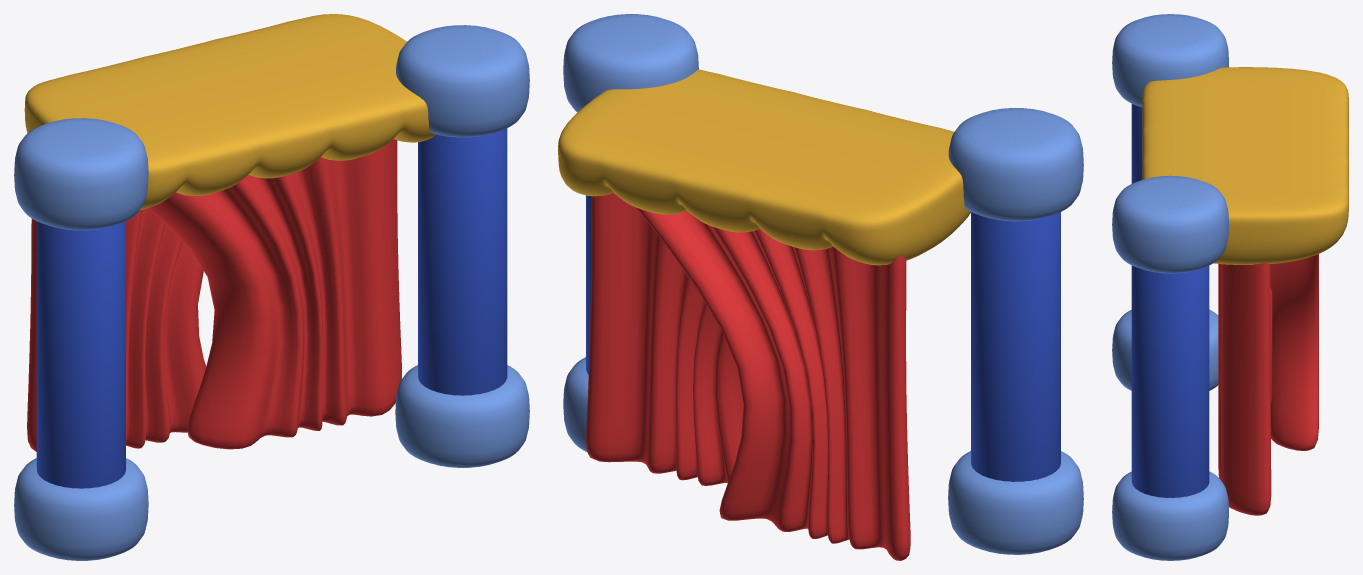
File: show-animated-3d-icon-1367337247432.glb
The picture shows the model from 3 angles, left to right: view 1: azimuth 30°, elevation 25°; view 2: azimuth 150°, elevation 25°; view 3: azimuth 270°, elevation 25°; orthographic projection. The views are drawn at different scales.
Visible parts, largest first — view 1: Curtain 2, Canopy, Part B, Part B.001, Part A, Part A.001, Curtain 1; view 2: Curtain 1, Canopy, Curtain 2, Part B, Part A, Part A.001, Part B.001; view 3: Canopy, Part B.001, Part A.001, Curtain 2, Part A, Curtain 1, Part B.
Part boxes in pixels (x1,y1,x2,y2): Curtain 2: [147, 139, 401, 449]; Canopy: [24, 14, 436, 210]; Part B: [36, 221, 125, 488]; Part B.001: [418, 128, 507, 395]; Part A: [14, 118, 148, 560]; Part A.001: [395, 25, 529, 467]; Curtain 1: [27, 208, 206, 451]; Curtain 1: [636, 207, 910, 560]; Canopy: [558, 69, 970, 265]; Curtain 2: [586, 192, 743, 485]; Part B: [971, 212, 1060, 481]; Part A: [948, 108, 1083, 554]; Part A.001: [563, 14, 698, 451]; Part B.001: [586, 195, 591, 374]; Canopy: [1142, 67, 1348, 264]; Part B.001: [1131, 265, 1209, 497]; Part A.001: [1112, 175, 1228, 560]; Curtain 2: [1218, 263, 1272, 515]; Part A: [1112, 14, 1228, 390]; Curtain 1: [1270, 254, 1318, 450]; Part B: [1131, 104, 1142, 183].
Size of what is drawn, in the model's own units: 2.16 by 1.68 by 1.02.
